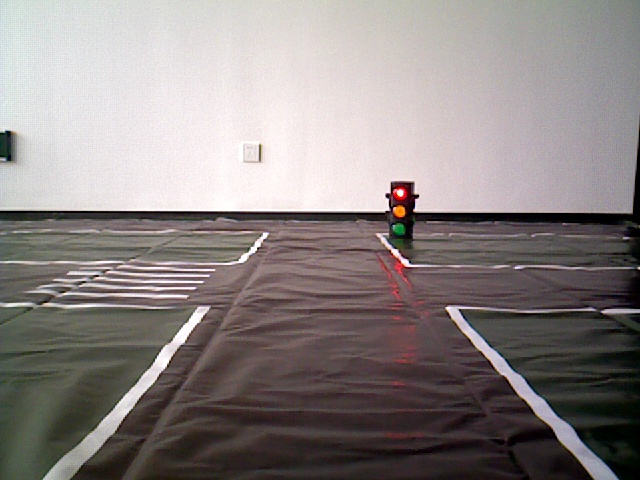red: (390, 184, 411, 238)
